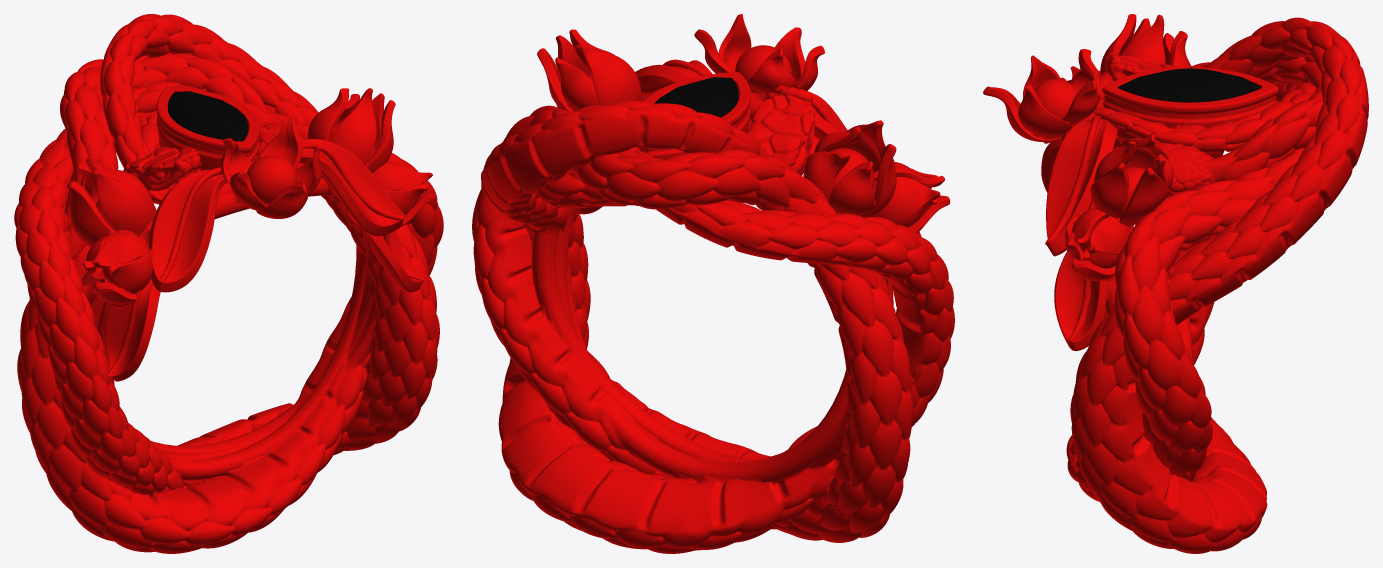
The picture shows the model from 3 angles, left to right: view 1: azimuth 30°, elevation 25°; view 2: azimuth 150°, elevation 25°; view 3: azimuth 270°, elevation 25°; orthographic projection. The views are drawn at different scales.
Visible parts, largest first — view 1: Group18643, Group15825; view 2: Group18643, Group15825; view 3: Group18643, Group15825.
Part boxes in pixels (x1=…): Group18643: x1=14, y1=14, x2=443, y2=553; Group15825: x1=168, y1=91, x2=248, y2=141; Group18643: x1=472, y1=14, x2=954, y2=553; Group15825: x1=654, y1=77, x2=738, y2=117; Group18643: x1=983, y1=14, x2=1368, y2=553; Group15825: x1=1118, y1=68, x2=1261, y2=102.
Bounding box in the file's own units: 2.44 × 2.55 × 1.88.
